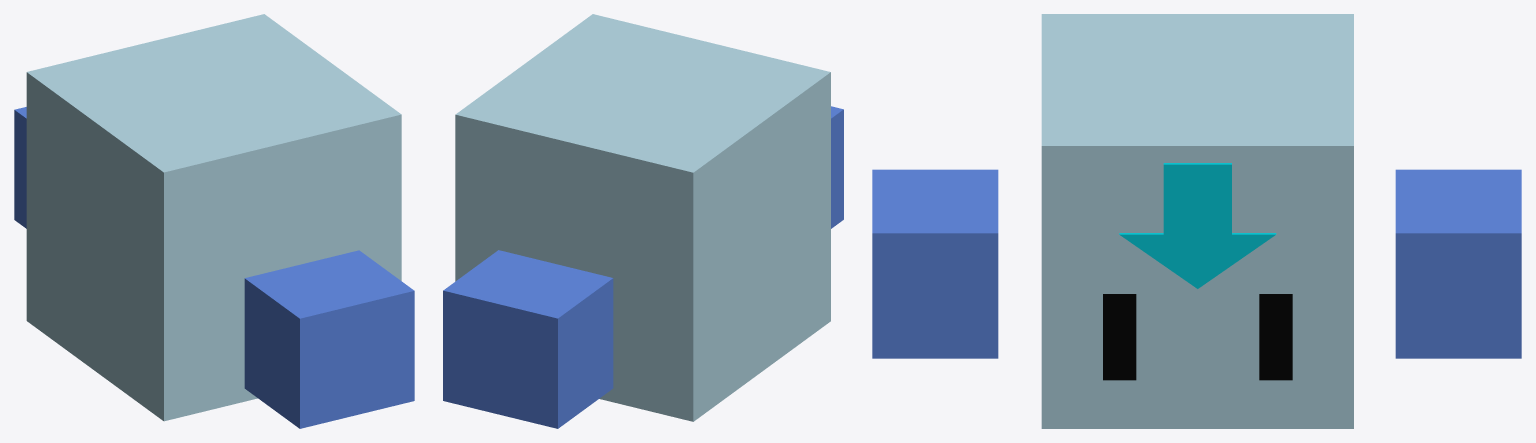
Rendered from player.fbx.
The picture shows the model from 3 angles, left to right: view 1: azimuth 30°, elevation 25°; view 2: azimuth 150°, elevation 25°; view 3: azimuth 270°, elevation 25°; orthographic projection. The views are drawn at different scales.
Visible parts, largest first — view 1: basebody, right_arm, left_arm; view 2: basebody, left_arm, right_arm; view 3: basebody, left_arm, right_arm, triangle, eye2, eye.
Boxes of the visible parts, x1=… form: basebody: x1=26, y1=14, x2=401, y2=421; right_arm: x1=244, y1=250, x2=414, y2=428; left_arm: x1=14, y1=107, x2=26, y2=228; basebody: x1=455, y1=14, x2=830, y2=421; left_arm: x1=443, y1=250, x2=613, y2=428; right_arm: x1=831, y1=106, x2=843, y2=228; basebody: x1=1041, y1=14, x2=1353, y2=428; left_arm: x1=1395, y1=169, x2=1521, y2=358; right_arm: x1=872, y1=169, x2=998, y2=358; triangle: x1=1119, y1=163, x2=1276, y2=288; eye2: x1=1259, y1=294, x2=1292, y2=380; eye: x1=1103, y1=294, x2=1136, y2=380.
Bounding box in the file's own units: 416 × 203 × 200.
